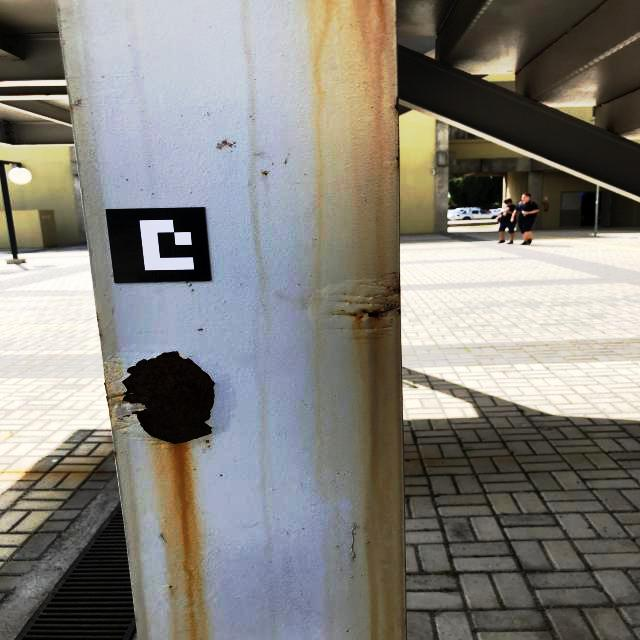Corrosion: (111, 351, 215, 445), (331, 270, 401, 328), (394, 96, 400, 168), (104, 377, 109, 407), (41, 93, 51, 96), (263, 170, 269, 175), (96, 313, 99, 322), (197, 328, 204, 331), (205, 439, 210, 443), (114, 451, 117, 457), (189, 283, 192, 287), (285, 160, 287, 165), (208, 445, 211, 448), (169, 585, 172, 588), (220, 474, 223, 476), (100, 334, 102, 337), (192, 289, 194, 291), (186, 282, 189, 283)
